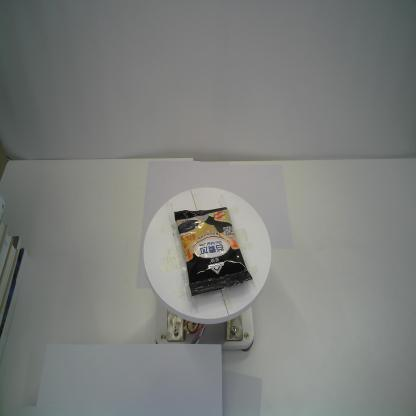Instant Drink: (173, 206, 254, 298)
